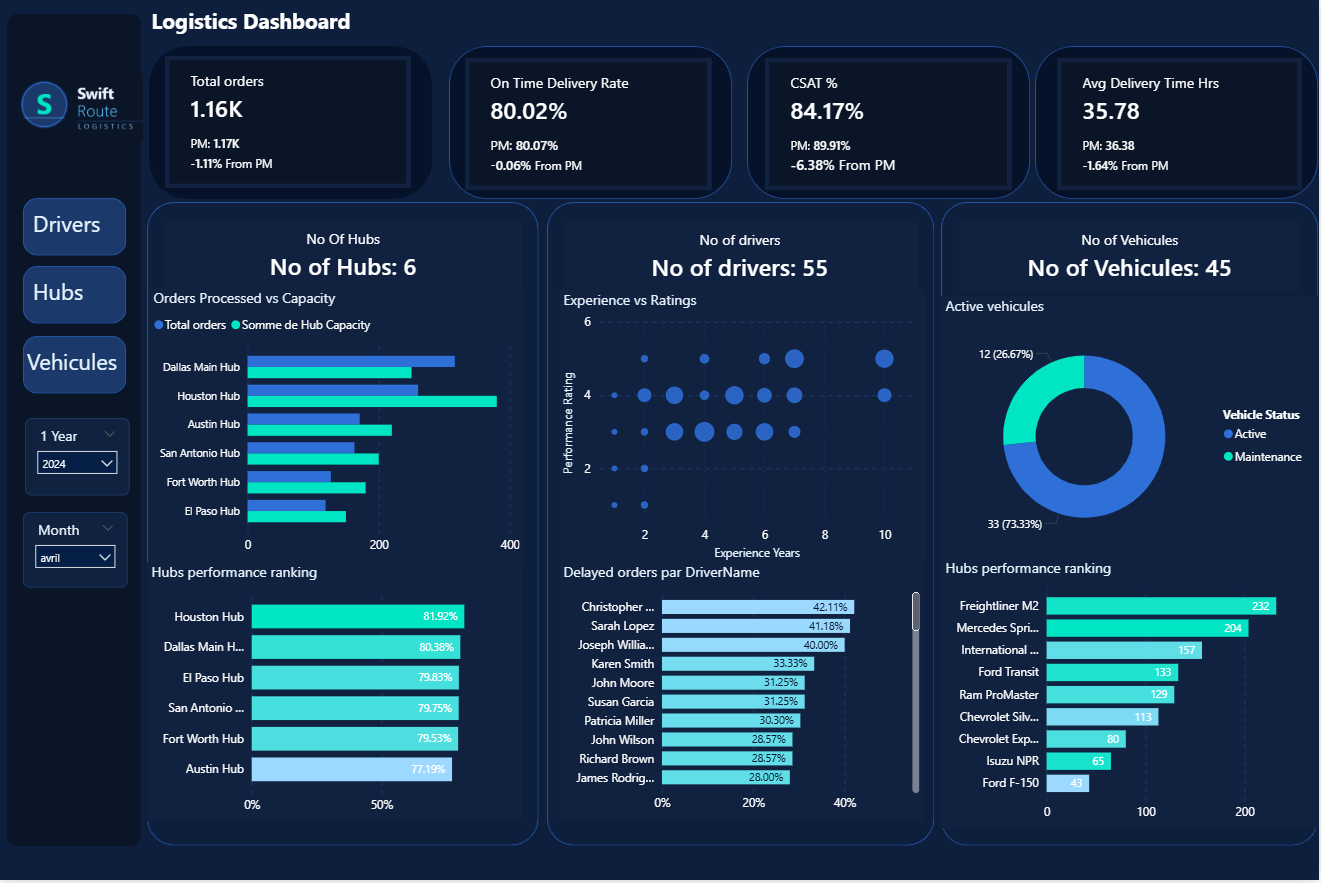

The dashboard page shown, as its layout file describes it:
{"tool":"powerbi","page":{"name":"Overview","canvas":[1500,1000],"ordinal":0},"visuals":[{"type":"shape","box":[9.7,16.2,152.3,946],"z":0},{"type":"textbox","box":[169,1.7,470.7,50],"z":1000},{"type":"slicer","fields":{"Values":["Date.1 Year"]},"box":[29.3,474.1,119,87.9],"z":2000},{"type":"slicer","fields":{"Values":["Date.Month"]},"box":[27.6,581,119,86.2],"z":3000},{"type":"shape","box":[621.9,230.6,440.2,731.4],"z":4000},{"type":"shape","box":[850,52.2,321.7,173.9],"z":5000},{"type":"shape","box":[510.9,52.2,321.7,173.9],"z":6000},{"type":"shape","box":[1071.4,230.6,428.6,731.4],"z":7000},{"type":"shape","box":[1178.3,52.2,321.7,173.9],"z":8000},{"type":"shape","box":[169.6,52.2,321.7,173.9],"z":9000},{"type":"shape","box":[167.7,230.6,445,731.4],"z":10000},{"type":"cardVisual","fields":{"Data":["Table.Total orders"]},"box":[189.7,64.7,279.4,150],"z":11000},{"type":"cardVisual","fields":{"Data":["Table.On Time Delivery Rate %"]},"box":[530.4,65.2,280.4,150],"z":12000},{"type":"cardVisual","fields":{"Data":["Table.CSAT %"]},"box":[869.6,65.2,280.4,150],"z":13000},{"type":"cardVisual","fields":{"Data":["Table.Avg Delivery Time Hrs"]},"box":[1202.2,65.2,278.3,150],"z":14000},{"type":"cardVisual","fields":{"Data":["Table.No Of Hubs"]},"box":[188.7,251.6,405.3,74.5],"z":15000},{"type":"clusteredBarChart","title":"Orders Processed vs Capacity","fields":{"Category":["Hubs.HubName"],"Y":["Table.Total orders","Sum(Hubs.Hub Capacity)"]},"box":[169.6,328.3,426.1,310.9],"z":16000},{"type":"clusteredBarChart","title":"Hubs performance ranking","fields":{"Category":["Hubs.HubName"],"Y":["Table.On Time Delivery Rate"]},"box":[169,637.9,425.9,294.8],"z":17000},{"type":"cardVisual","fields":{"Data":["Table.No of drivers"]},"box":[640.5,251.6,403,76.9],"z":18000},{"type":"cardVisual","fields":{"Data":["Table.No of Vehicules"]},"box":[1090.1,251.6,389,76.9],"z":19000},{"type":"scatterChart","title":"Experience vs Ratings","fields":{"X":["Drivers.Experience Years"],"Y":["Drivers.Performance Rating"],"Size":["Sum(Drivers.Experience Years)1"]},"box":[635.9,328.4,416.9,312.1],"z":20000},{"type":"barChart","fields":{"Category":["Drivers.DriverName"],"Y":["Table.Delayed orders"]},"box":[635.9,638.2,414.6,293.5],"z":21000},{"type":"donutChart","title":"Active vehicules","fields":{"Category":["Vehicles.Vehicle Status"],"Y":["CountNonNull(Vehicles.Vehicle ID)"]},"box":[1071.4,335.4,428.6,298.1],"z":22000},{"type":"shape","box":[26.9,225,117.3,65.4],"z":23000},{"type":"clusteredBarChart","title":"Hubs performance ranking","fields":{"Category":["Vehicles.Vehicle Model"],"Y":["Table.Total orders"]},"box":[1071.4,633.5,428.6,307.5],"z":24000},{"type":"actionButton","title":"Drivers","box":[38.5,236.5,100,40.4],"z":25000},{"type":"shape","box":[26.9,301.9,117.3,65.4],"z":26000},{"type":"shape","box":[26.9,380.8,117.3,65.4],"z":27000},{"type":"actionButton","title":"Hubs","box":[38.5,313.5,100,40.4],"z":28000},{"type":"actionButton","title":"Vehicules","box":[32.7,394.2,111.5,40.4],"z":29000},{"type":"image","box":[9.1,25,154.5,193.2],"z":30000}]}

Visuals, with their boxes in screenshot pixels (x1, y1, x2, y2), scaled from the page's 1500x1000 canvas onto the 1321x883 screenshot:
shape: x1=9 y1=14 x2=143 y2=850
textbox: x1=149 y1=2 x2=563 y2=46
slicer - Date.1 Year: x1=26 y1=419 x2=131 y2=496
slicer - Date.Month: x1=24 y1=513 x2=129 y2=589
shape: x1=548 y1=204 x2=935 y2=849
shape: x1=749 y1=46 x2=1032 y2=200
shape: x1=450 y1=46 x2=733 y2=200
shape: x1=944 y1=204 x2=1320 y2=849
shape: x1=1038 y1=46 x2=1320 y2=200
shape: x1=149 y1=46 x2=433 y2=200
shape: x1=148 y1=204 x2=540 y2=849
cardVisual - Table.Total orders: x1=167 y1=57 x2=413 y2=190
cardVisual - Table.On Time Delivery Rate %: x1=467 y1=58 x2=714 y2=190
cardVisual - Table.CSAT %: x1=766 y1=58 x2=1013 y2=190
cardVisual - Table.Avg Delivery Time Hrs: x1=1059 y1=58 x2=1304 y2=190
cardVisual - Table.No Of Hubs: x1=166 y1=222 x2=523 y2=288
"Orders Processed vs Capacity" clusteredBarChart: x1=149 y1=290 x2=525 y2=564
"Hubs performance ranking" clusteredBarChart: x1=149 y1=563 x2=524 y2=824
cardVisual - Table.No of drivers: x1=564 y1=222 x2=919 y2=290
cardVisual - Table.No of Vehicules: x1=960 y1=222 x2=1303 y2=290
"Experience vs Ratings" scatterChart: x1=560 y1=290 x2=927 y2=566
barChart - Drivers.DriverName x Table.Delayed orders: x1=560 y1=564 x2=925 y2=823
"Active vehicules" donutChart: x1=944 y1=296 x2=1320 y2=559
shape: x1=24 y1=199 x2=127 y2=256
"Hubs performance ranking" clusteredBarChart: x1=944 y1=559 x2=1320 y2=831
"Drivers" actionButton: x1=34 y1=209 x2=122 y2=245
shape: x1=24 y1=267 x2=127 y2=324
shape: x1=24 y1=336 x2=127 y2=394
"Hubs" actionButton: x1=34 y1=277 x2=122 y2=312
"Vehicules" actionButton: x1=29 y1=348 x2=127 y2=384
image: x1=8 y1=22 x2=144 y2=193
